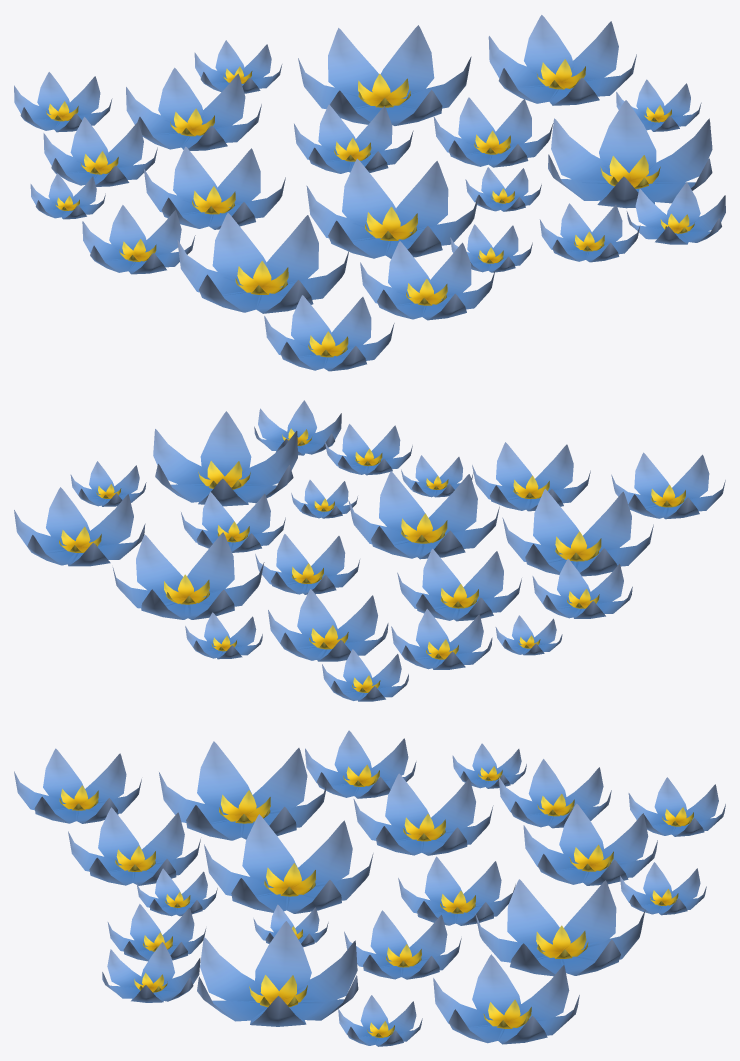
File: Flower1.fbx
3 renders of one model, top to bottom at view 1: azimuth 30°, elevation 25°; view 2: azimuth 150°, elevation 25°; view 3: azimuth 270°, elevation 25°, orthographic. The views are drawn at different scales.
Visible parts, largest first — view 1: Circle.023; view 2: Circle.023; view 3: Circle.023.
Part boxes in pixels (bbox=[...]): Circle.023: bbox=[14, 15, 725, 371]; Circle.023: bbox=[14, 400, 725, 701]; Circle.023: bbox=[14, 730, 725, 1046].
Size of the model in its own units: 92.34 by 6.71 by 94.21.
